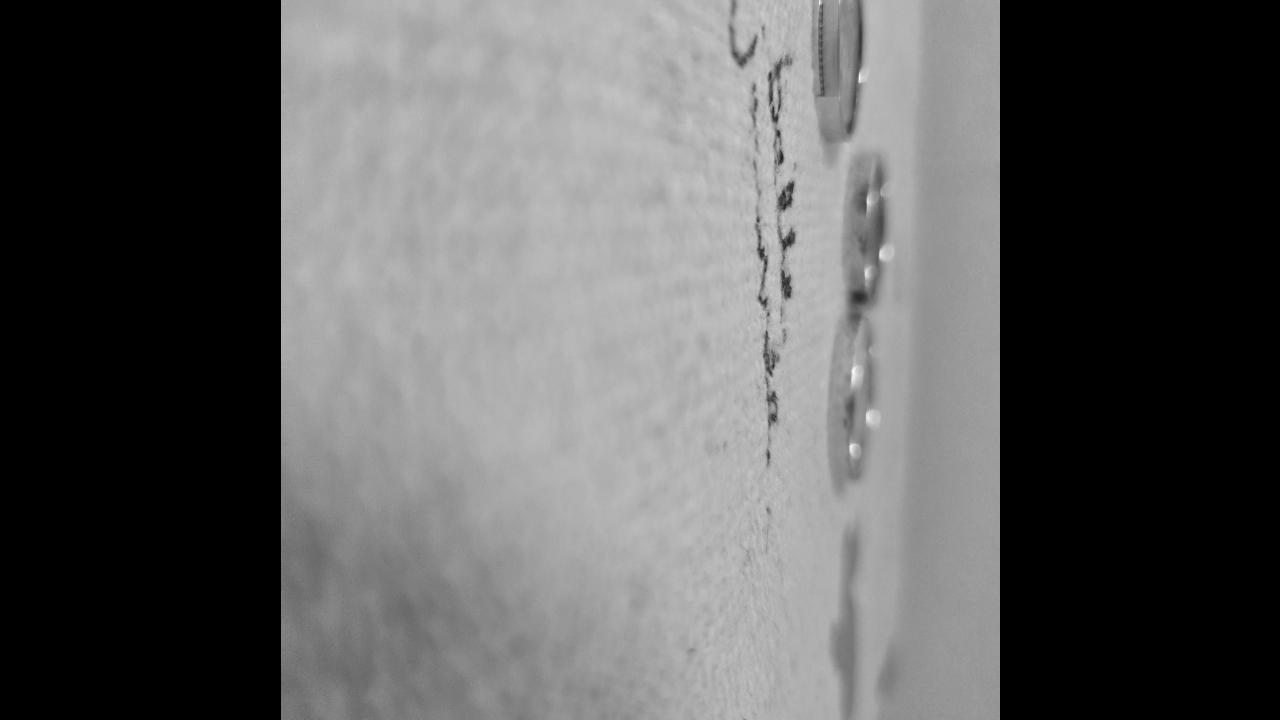ring: (824, 310, 876, 484), (842, 151, 891, 308), (811, 0, 865, 140)
